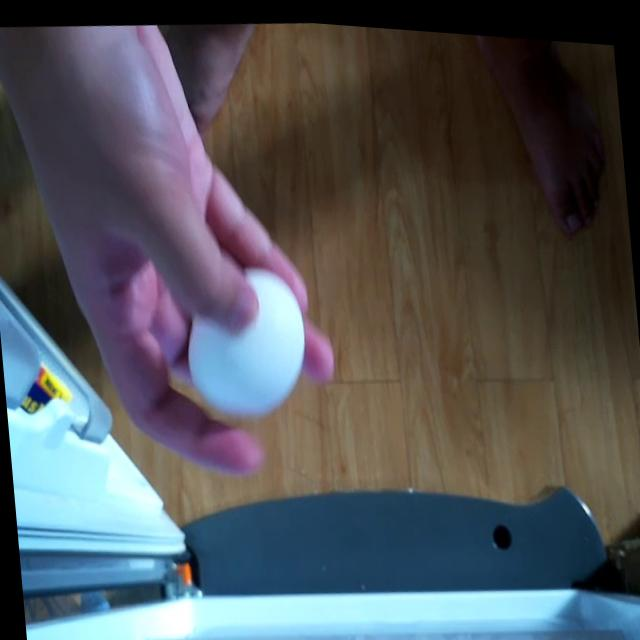egg: (178, 253, 320, 435)
